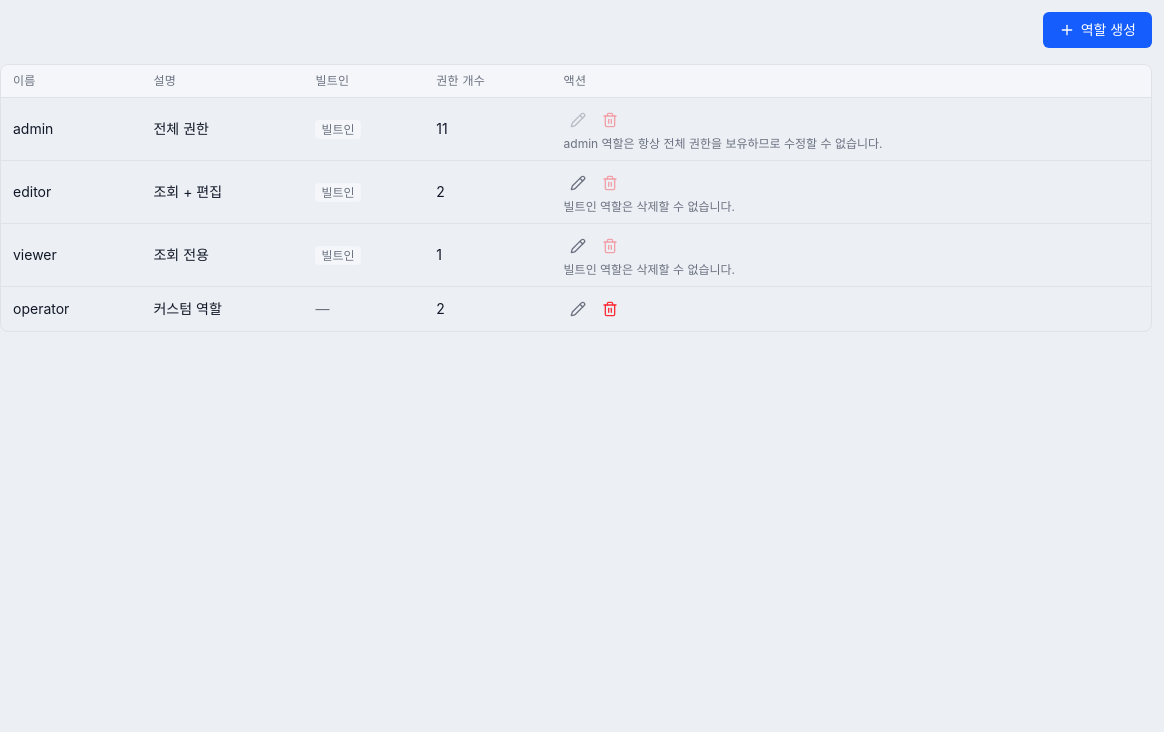
Scenario: RolesPanel 메뉴 노출 구획 (nav.*) › 카탈로그에 nav 키가 없으면 구획 자체를 그리지 않는다
Check: the row with test id "admin-role-row-operator" is shown, box [1, 286, 1151, 331]
Click the button "역할 생성" at [1097, 30], box [1043, 12, 1152, 48]
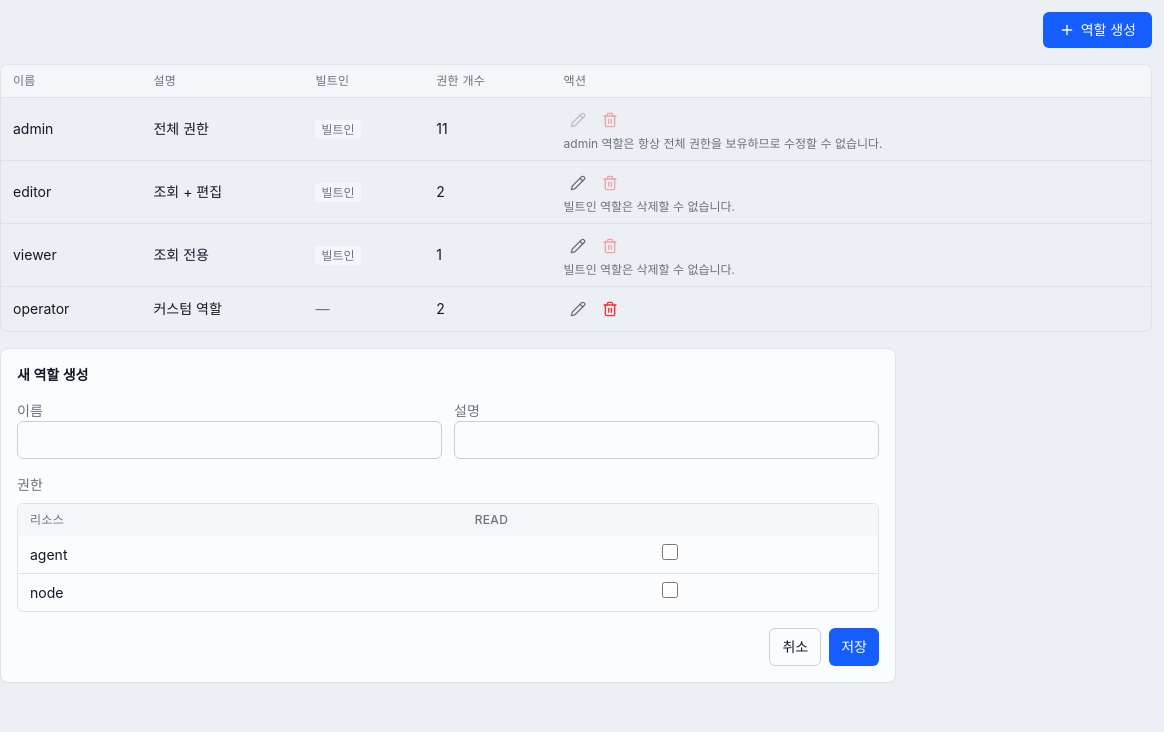
Check: the table with test id "permission-matrix" is shown, box [18, 504, 878, 611]
